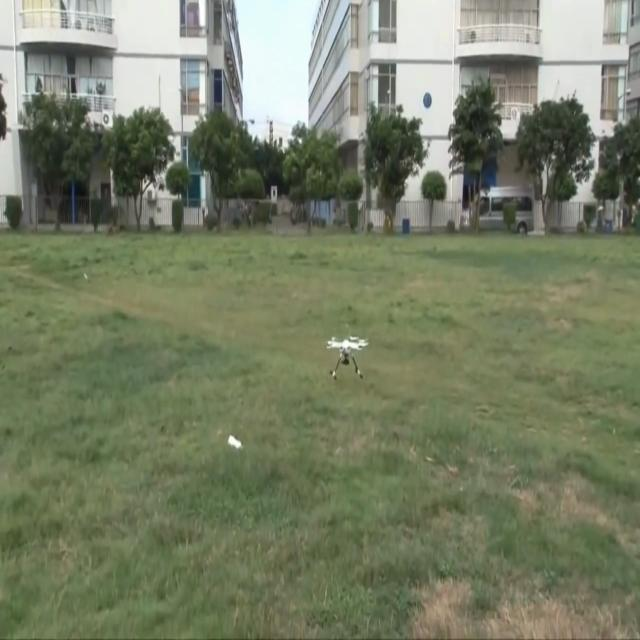drone: (326, 334, 369, 381)
